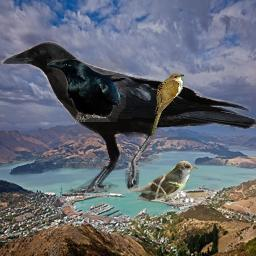Crow: (1, 39, 256, 193), (47, 59, 126, 122)
Cuckoo: (128, 160, 198, 202), (151, 73, 184, 135)
